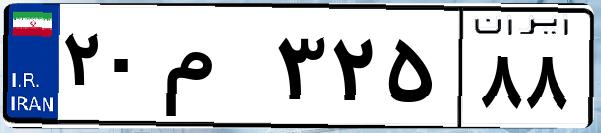0: (110, 28, 158, 98)
2: (330, 28, 385, 110), (57, 26, 110, 100)
3: (270, 28, 330, 110)
5: (385, 28, 445, 110)
8: (475, 38, 525, 113), (525, 38, 570, 115)
م: (158, 20, 270, 120)
